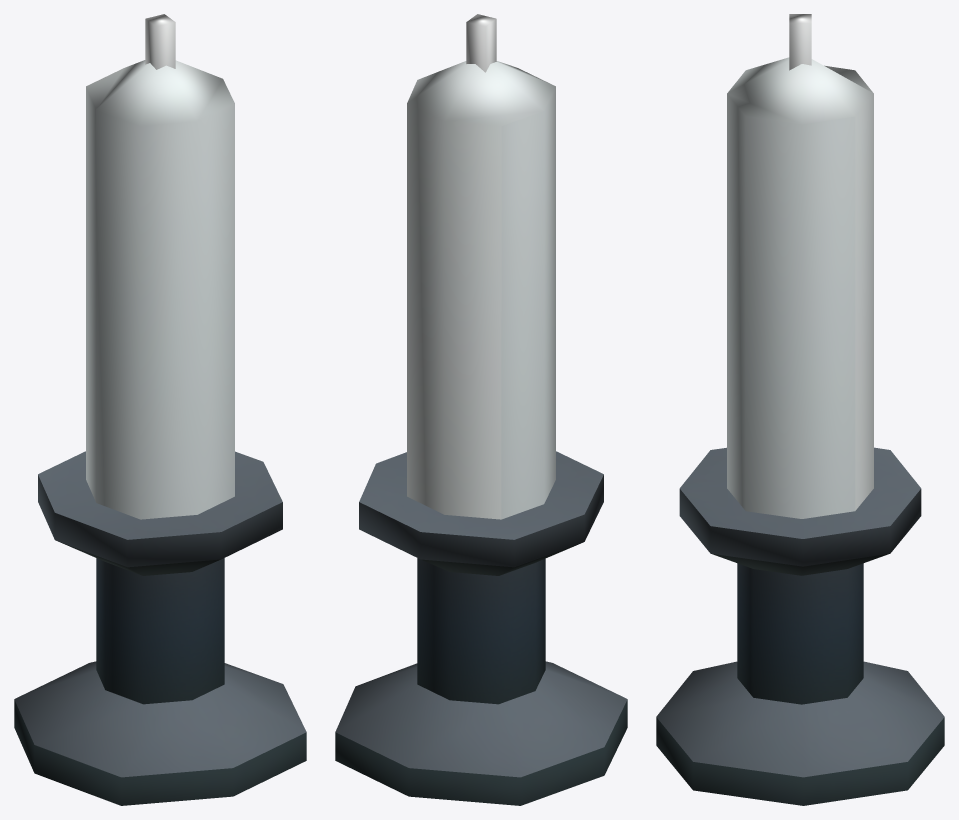
Rendered from candle_new.fbx.
The picture shows the model from 3 angles, left to right: view 1: azimuth 30°, elevation 25°; view 2: azimuth 150°, elevation 25°; view 3: azimuth 270°, elevation 25°; orthographic projection.
Parts seen in each view (by area): view 1: candle_new; view 2: candle_new; view 3: candle_new.
Part boxes in pixels (bbox=[...]): candle_new: bbox=[14, 14, 306, 805]; candle_new: bbox=[335, 14, 627, 805]; candle_new: bbox=[656, 14, 944, 805].
Bounding box in the file's own units: 18.35 × 50.95 × 18.35.
